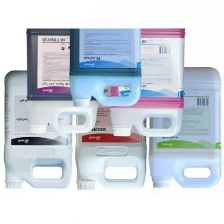cleaning_solution: (105, 10, 187, 139), (146, 64, 224, 190), (24, 14, 101, 136), (73, 67, 147, 190), (1, 68, 74, 192), (67, 0, 142, 109)
